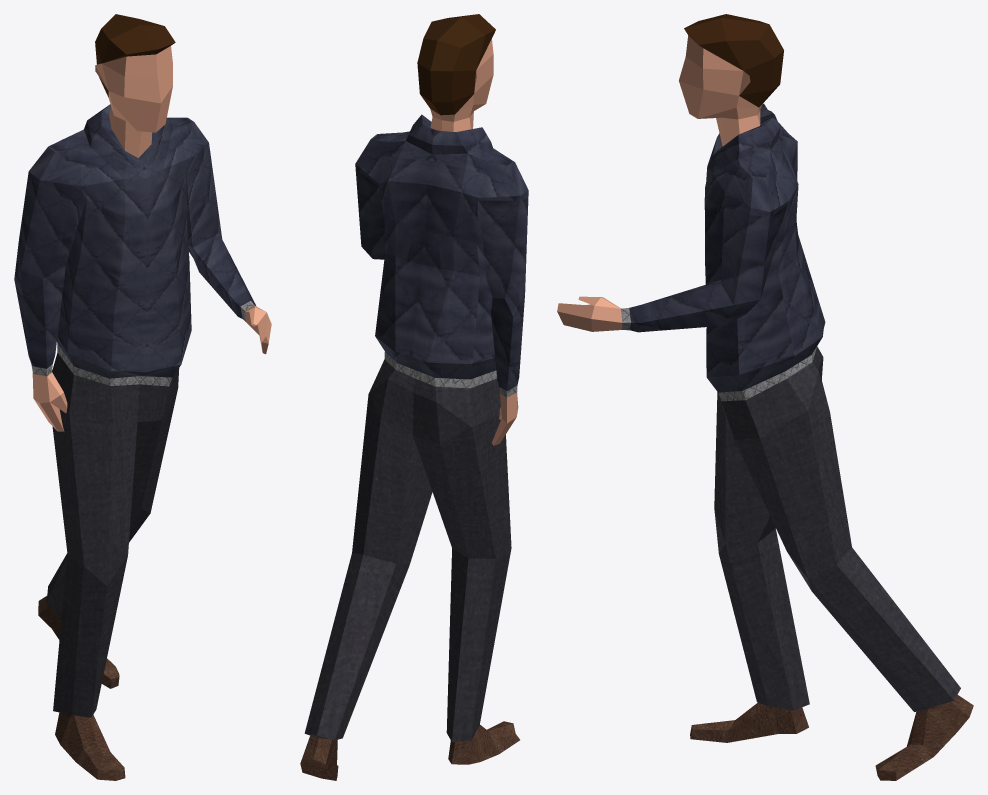
File: AutumnManA.007.glb
The picture shows the model from 3 angles, left to right: view 1: azimuth 30°, elevation 25°; view 2: azimuth 150°, elevation 25°; view 3: azimuth 270°, elevation 25°; orthographic projection. The views are drawn at different scales.
Visible parts, largest first — view 1: AutumnManA.007; view 2: AutumnManA.007; view 3: AutumnManA.007.
Part boxes in pixels (x1,y1,x2,y2): AutumnManA.007: (14,14,271,780); AutumnManA.007: (300,14,528,780); AutumnManA.007: (557,14,973,780).
Bounding box in the file's own units: 0.4496 × 1.74 × 0.8921.
Materials: 1 (1 with a texture image).
